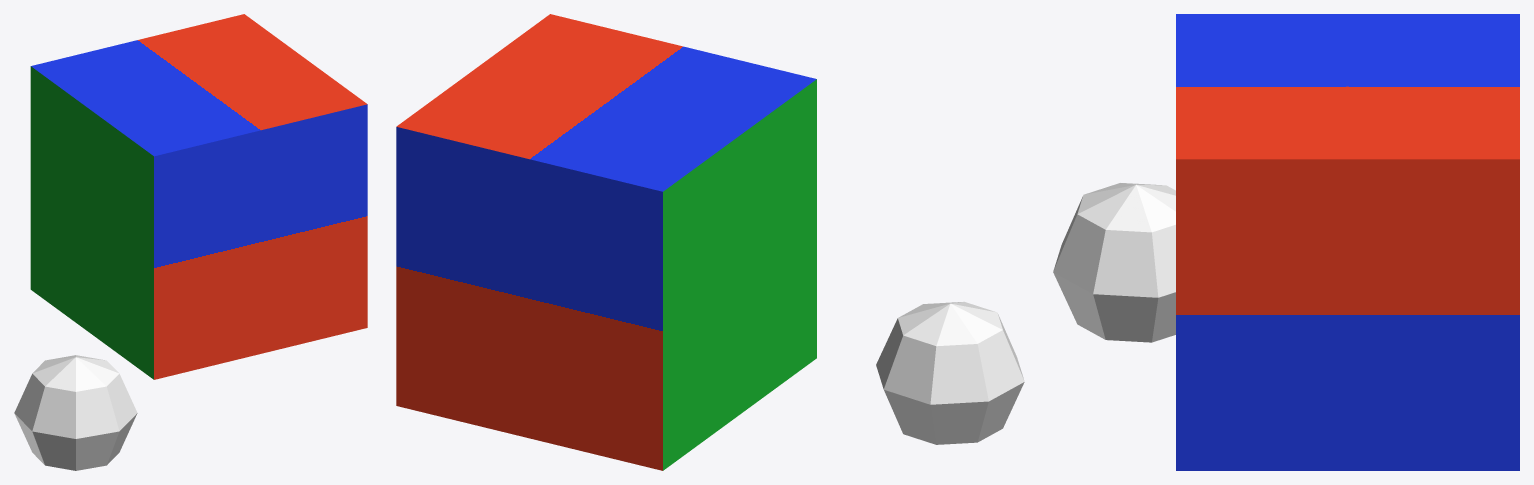
Rendered from crate_assimp.fbx.
The picture shows the model from 3 angles, left to right: view 1: azimuth 30°, elevation 25°; view 2: azimuth 150°, elevation 25°; view 3: azimuth 270°, elevation 25°; orthographic projection. The views are drawn at different scales.
Parts seen in each view (by area): view 1: Cube-0, Cube-1, Knob; view 2: Cube-0, Cube-1, Knob; view 3: Cube-0, Knob.
Boxes of the visible parts, x1=… form: Cube-0: x1=31, y1=14, x2=367, y2=379; Cube-1: x1=30, y1=66, x2=153, y2=379; Knob: x1=14, y1=355, x2=137, y2=470; Cube-0: x1=396, y1=14, x2=816, y2=470; Cube-1: x1=663, y1=79, x2=816, y2=470; Knob: x1=876, y1=301, x2=1024, y2=444; Cube-0: x1=1176, y1=14, x2=1519, y2=470; Knob: x1=1053, y1=183, x2=1175, y2=342.
Size of the model in its own units: 3.35 by 2.5 by 2.72.
Materials: 2 (1 with a texture image).
